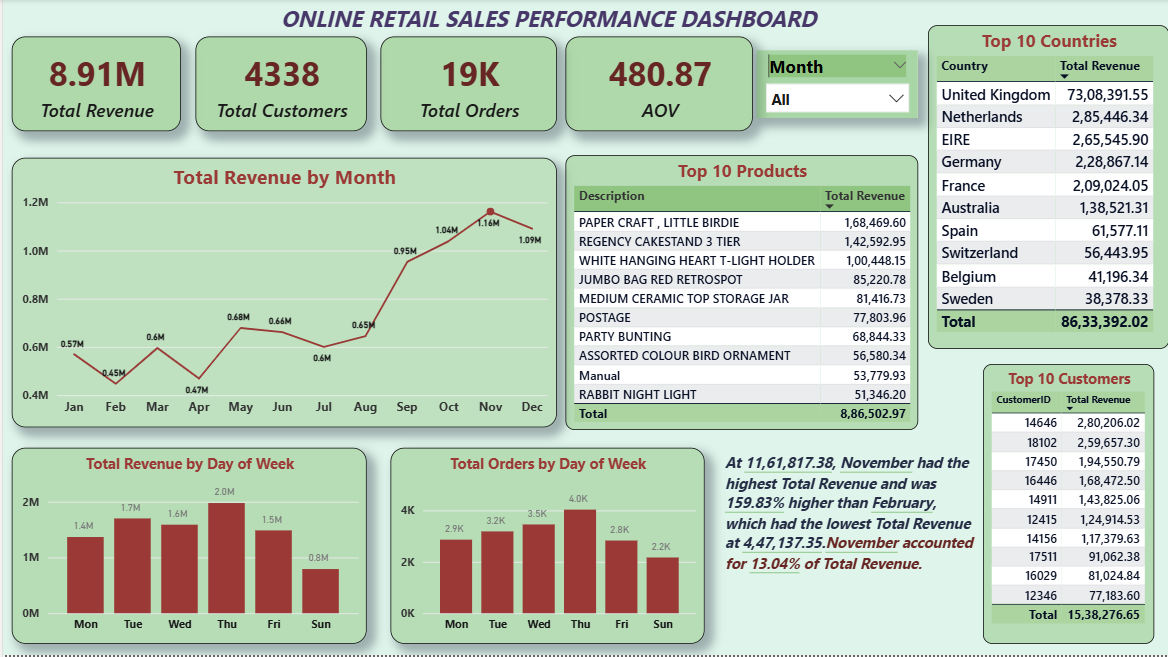

The page's visual inventory and layout, read from the dashboard file:
{"tool":"powerbi","page":{"name":"Page 1","canvas":[1280,720],"ordinal":0},"visuals":[{"type":"textbox","box":[9.6,0,1178.7,57.6],"z":0},{"type":"card","fields":{"Values":["online_retail_powerbi.Total Revenue"]},"box":[9.6,41.2,185.2,104.3],"z":1000},{"type":"card","fields":{"Values":["online_retail_powerbi.Total Customers"]},"box":[211.3,41.2,188,104.3],"z":2000},{"type":"card","fields":{"Values":["online_retail_powerbi.Total Orders"]},"box":[414.4,41.2,193.5,104.3],"z":3000},{"type":"card","fields":{"Values":["online_retail_powerbi.AOV"]},"box":[617.5,41.2,205.8,104.3],"z":4000},{"type":"lineChart","title":"Total Revenue by Month","fields":{"Y":["online_retail_powerbi.Total Revenue"],"Category":["online_retail_powerbi.MonthShort"]},"box":[9.6,174.3,598.3,296.4],"z":5000},{"type":"tableEx","title":"Top 10 Products ","fields":{"Values":["online_retail_powerbi.Description","online_retail_powerbi.Total Revenue"]},"box":[617.5,171.5,387,301.9],"z":6000},{"type":"tableEx","title":"Top 10 Customers","fields":{"Values":["online_retail_powerbi.CustomerID","online_retail_powerbi.Total Revenue"]},"box":[1075.8,400.7,188,307.4],"z":7000},{"type":"columnChart","fields":{"Y":["online_retail_powerbi.Total Orders"],"Category":["online_retail_powerbi.DayShort"]},"box":[425.4,492.6,344.4,215.4],"z":8000},{"type":"columnChart","fields":{"Y":["online_retail_powerbi.Total Revenue"],"Category":["online_retail_powerbi.DayShort"]},"box":[9.6,492.6,389.7,215.4],"z":9000},{"type":"tableEx","title":"Top 10 Countries","fields":{"Values":["online_retail_powerbi.Country","online_retail_powerbi.Total Revenue"]},"box":[1015.4,28.8,264.8,355.4],"z":10000},{"type":"textbox","box":[787.7,492.6,288.2,203.1],"z":11000},{"type":"slicer","fields":{"Values":["online_retail_powerbi.MonthName"]},"box":[827.4,56.3,177,74.1],"z":12000}]}

Visuals, with their boxes in screenshot pixels (x1, y1, x2, y2), scaled from the page's 1280x720 canvas onto the 1168x657 screenshot:
textbox: region(9, 0, 1084, 53)
card - online_retail_powerbi.Total Revenue: region(9, 38, 178, 133)
card - online_retail_powerbi.Total Customers: region(193, 38, 364, 133)
card - online_retail_powerbi.Total Orders: region(378, 38, 555, 133)
card - online_retail_powerbi.AOV: region(563, 38, 751, 133)
"Total Revenue by Month" lineChart: region(9, 159, 555, 430)
"Top 10 Products " tableEx: region(563, 156, 917, 432)
"Top 10 Customers" tableEx: region(982, 366, 1153, 646)
columnChart - online_retail_powerbi.Total Orders x online_retail_powerbi.DayShort: region(388, 449, 702, 646)
columnChart - online_retail_powerbi.Total Revenue x online_retail_powerbi.DayShort: region(9, 449, 364, 646)
"Top 10 Countries" tableEx: region(927, 26, 1167, 351)
textbox: region(719, 449, 982, 635)
slicer - online_retail_powerbi.MonthName: region(755, 51, 917, 119)
